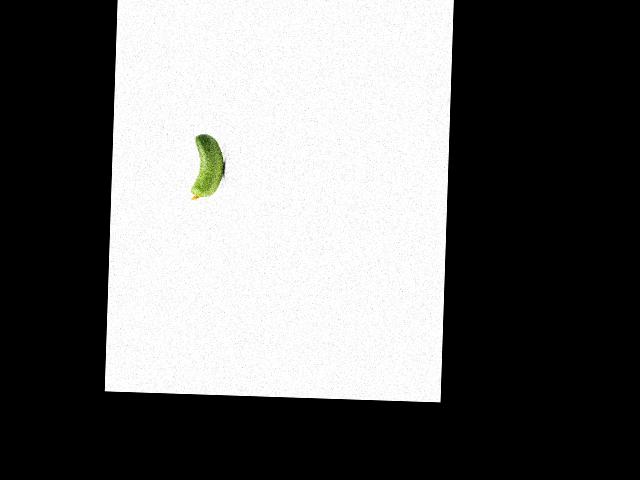cucumber: (190, 133, 225, 201)
